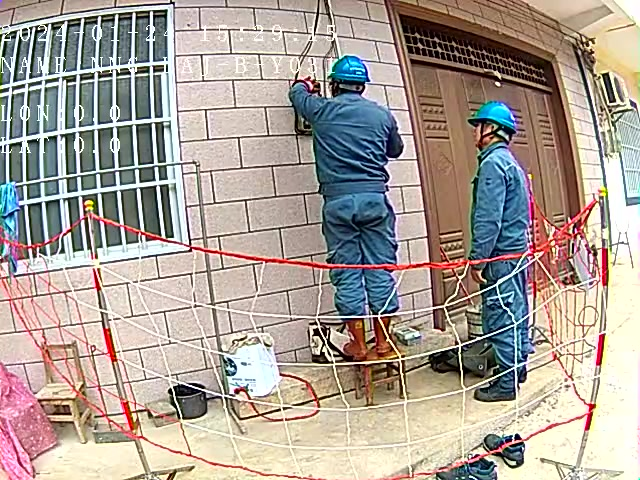halt: (472, 105, 520, 150), (332, 57, 373, 97)
inear: (482, 125, 502, 145)
